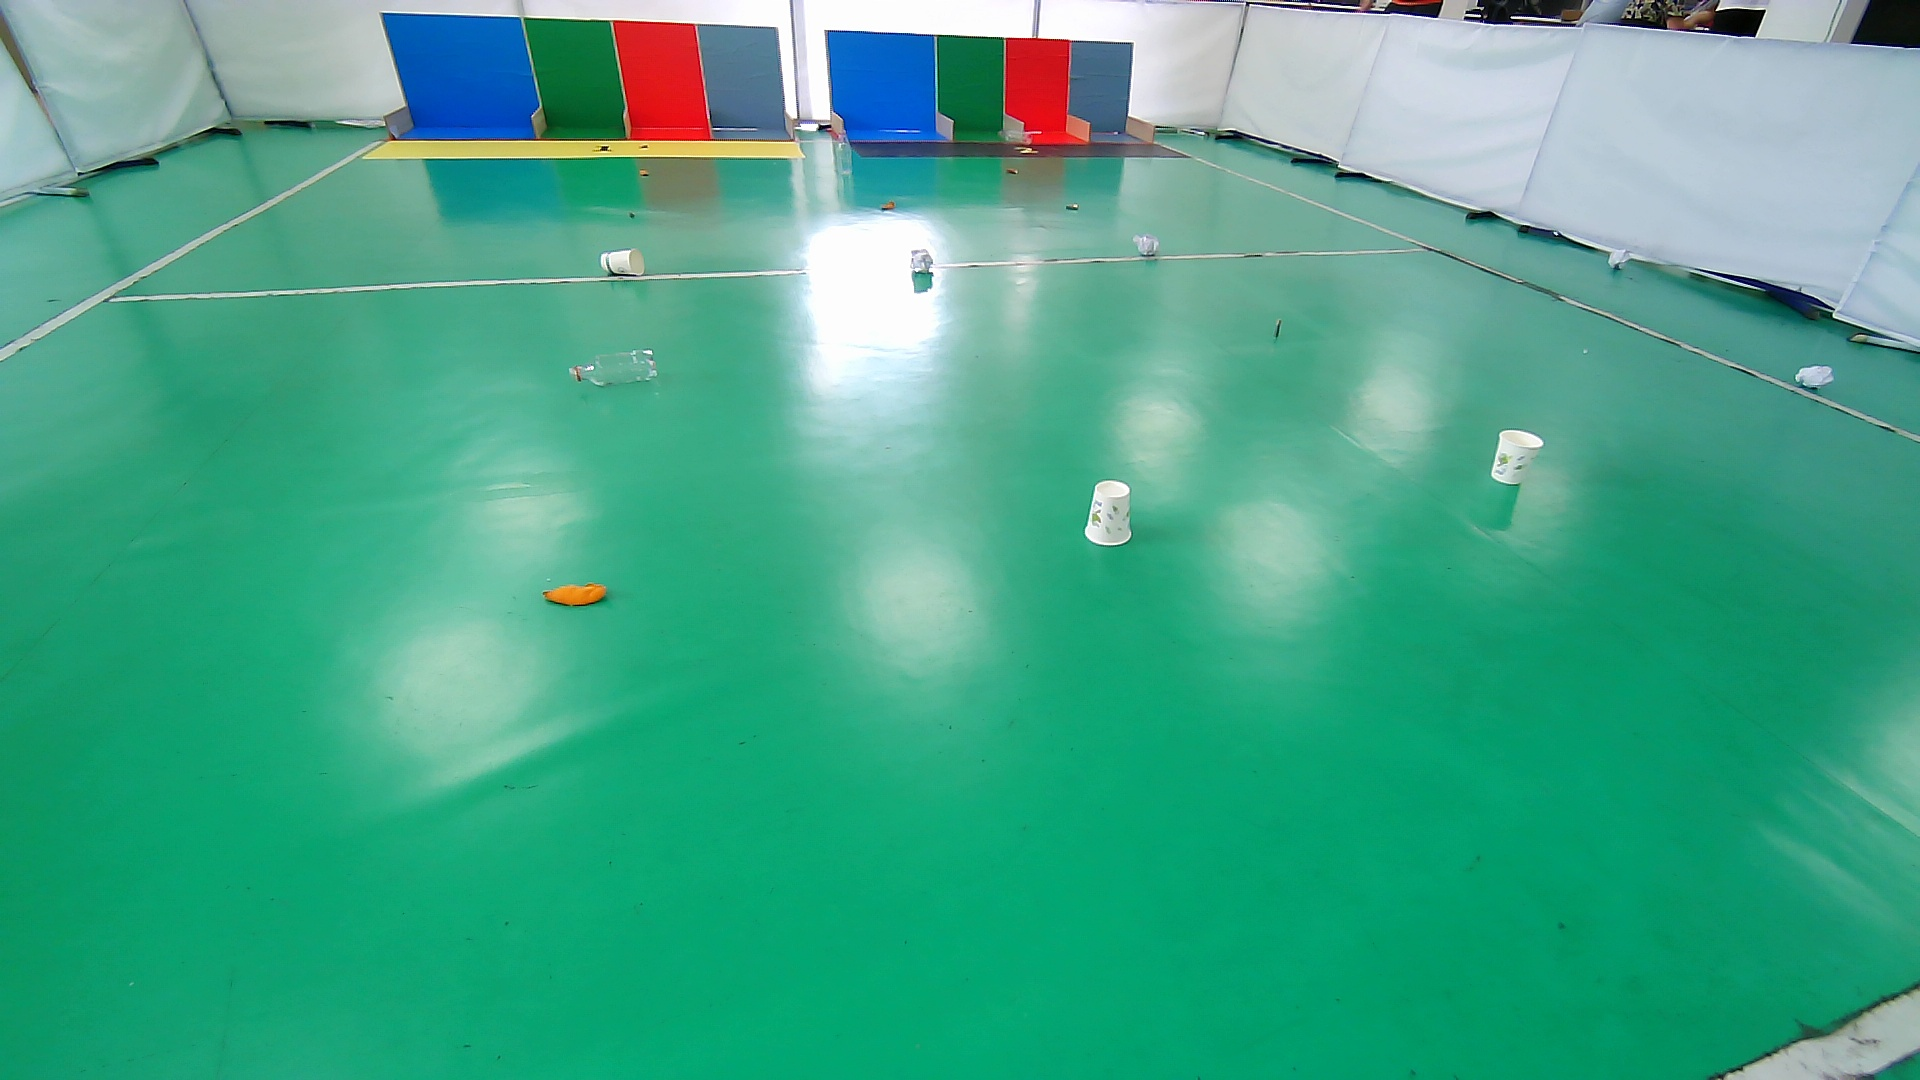battery: (1269, 316, 1287, 342), (622, 204, 644, 225), (1062, 198, 1084, 214)
bottle: (562, 345, 670, 390), (833, 129, 853, 175)
orangepeel: (534, 568, 617, 624), (876, 196, 901, 215), (632, 164, 657, 181)
papercup: (1077, 471, 1139, 549), (1485, 425, 1544, 487), (599, 245, 647, 276)
spitball: (1795, 363, 1834, 392), (1130, 231, 1164, 258), (907, 248, 936, 277)
